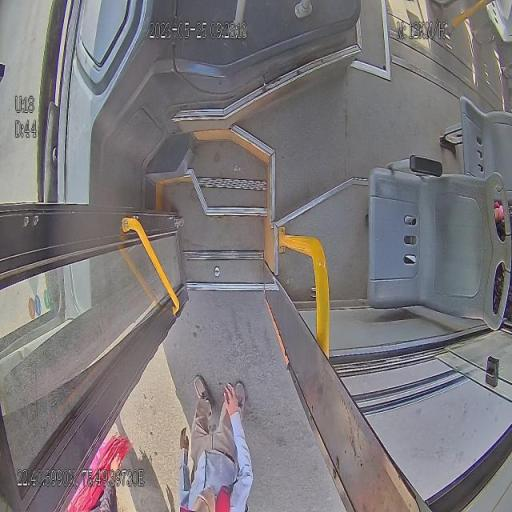persona: (178, 373, 254, 511), (68, 433, 137, 512)
